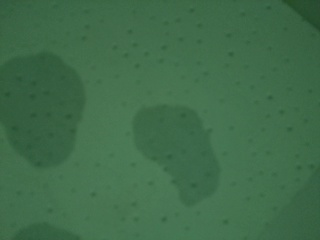Water_detected: (2, 68, 74, 156), (134, 114, 199, 186)
